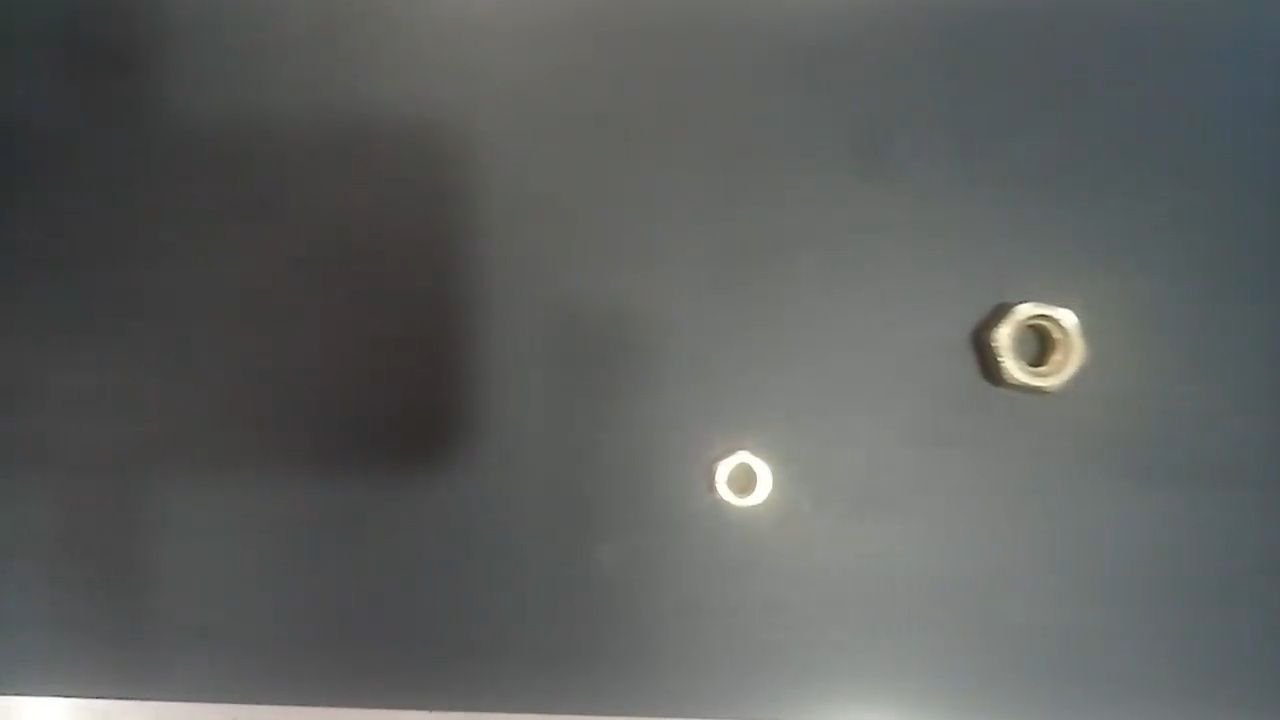Bolt: (983, 300, 1090, 396), (709, 449, 781, 507)
